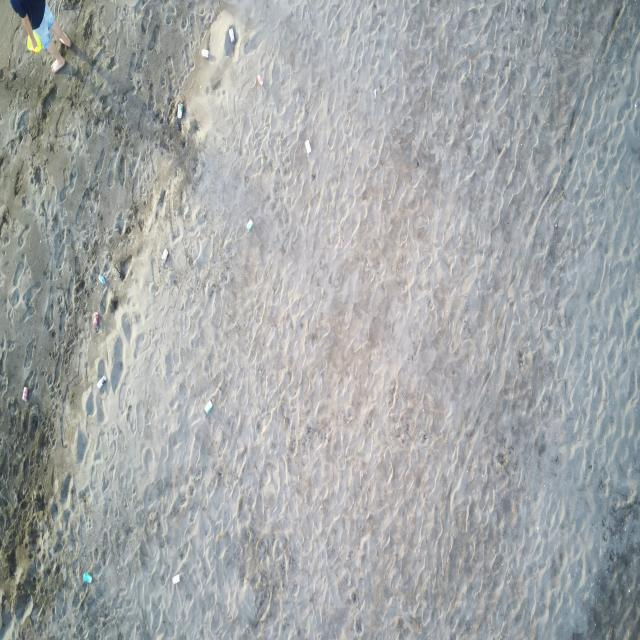Garbage: (224, 26, 236, 55), (27, 31, 42, 52), (111, 263, 123, 279), (91, 312, 100, 331), (203, 400, 212, 415), (176, 100, 183, 119), (228, 26, 235, 43), (98, 273, 107, 286), (81, 572, 91, 583), (96, 376, 105, 388), (160, 248, 167, 263), (304, 139, 310, 152), (172, 573, 179, 584), (256, 74, 263, 84), (22, 387, 27, 400), (200, 48, 207, 57), (246, 220, 252, 230)
